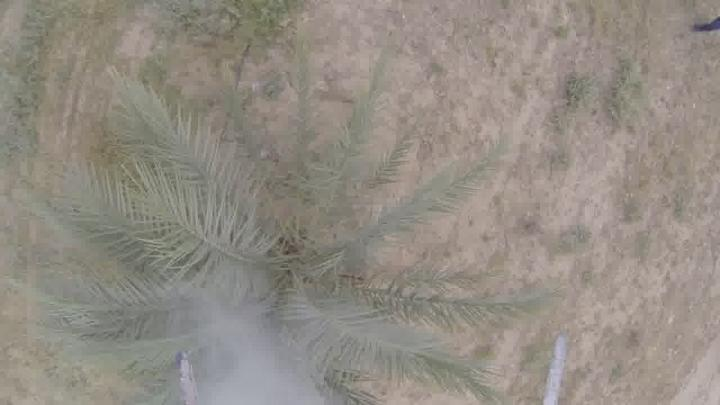Date-Palm-Crown: (145, 174, 417, 404)
